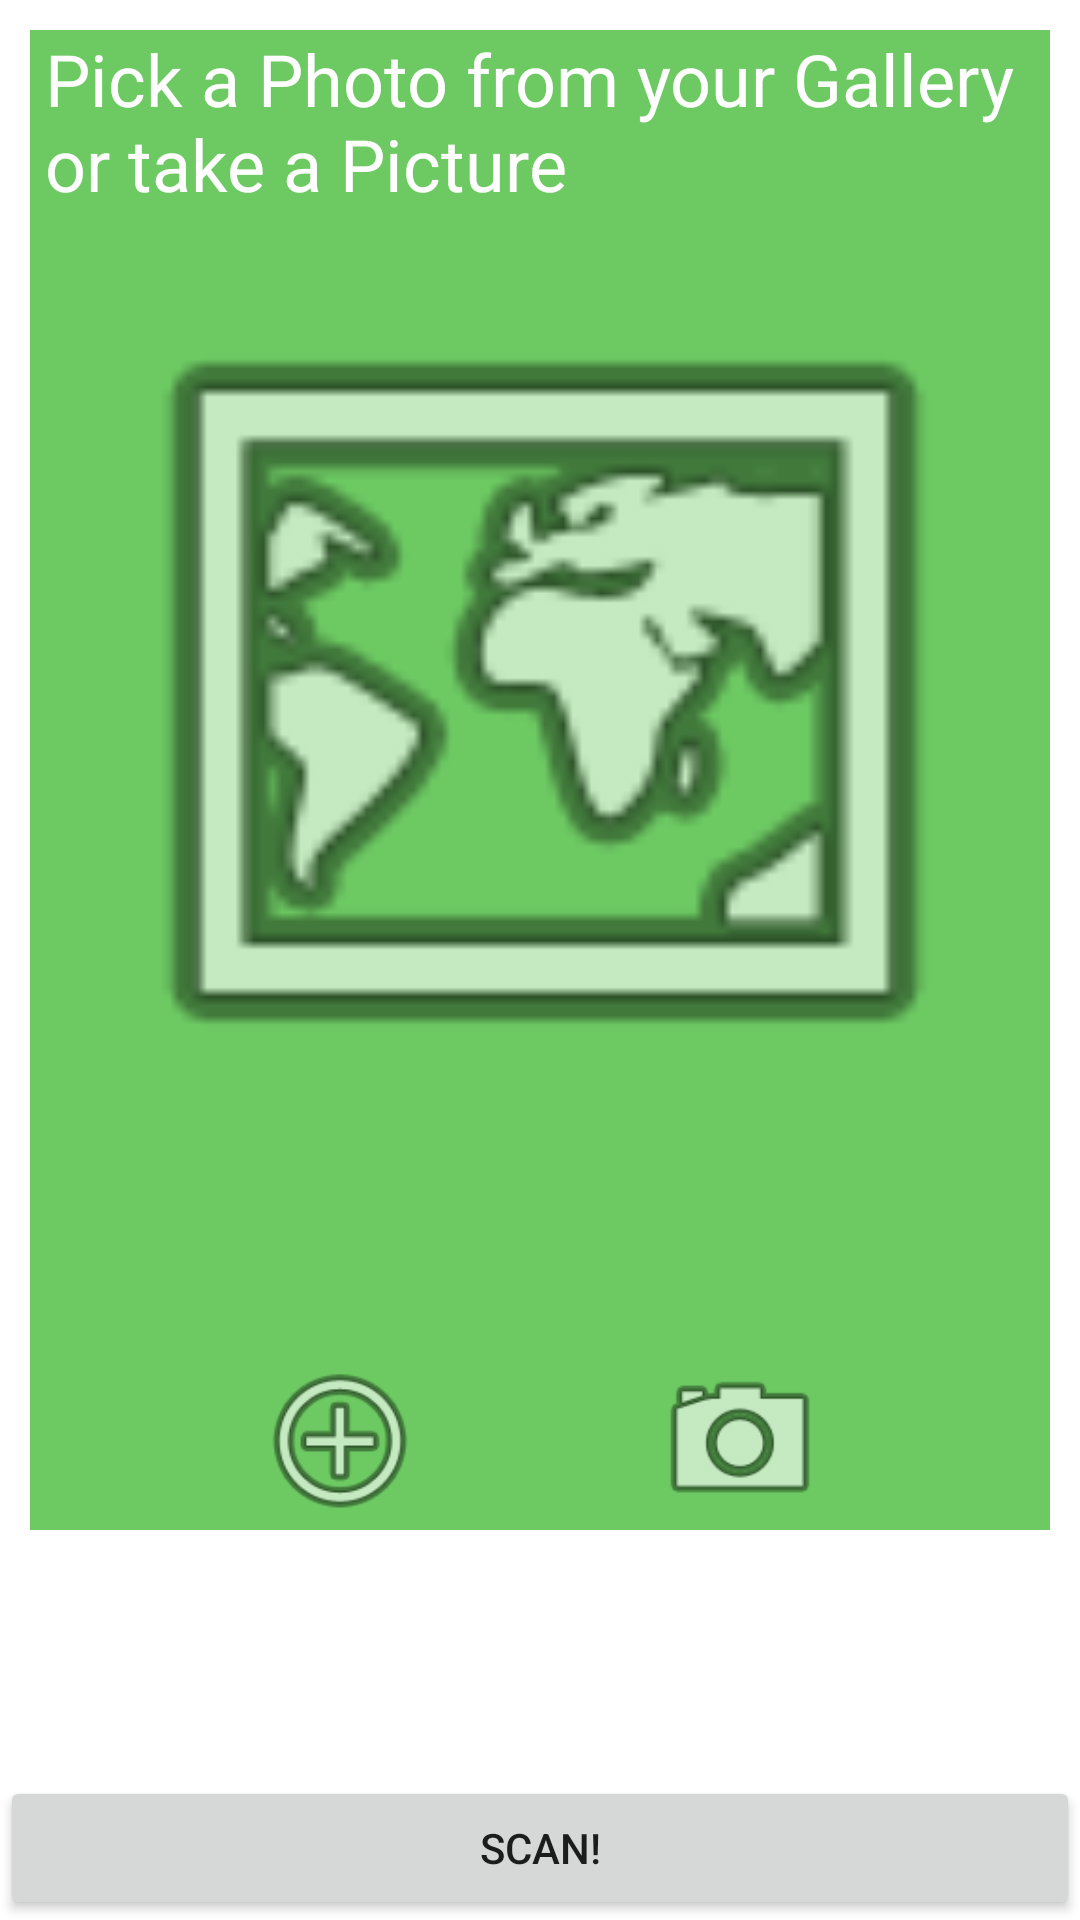

Point at icon controls on the screen. Image size 1080px x 1920px, points as (x=x, y=y).
add: (x=340, y=1441)
camera: (x=739, y=1437)
